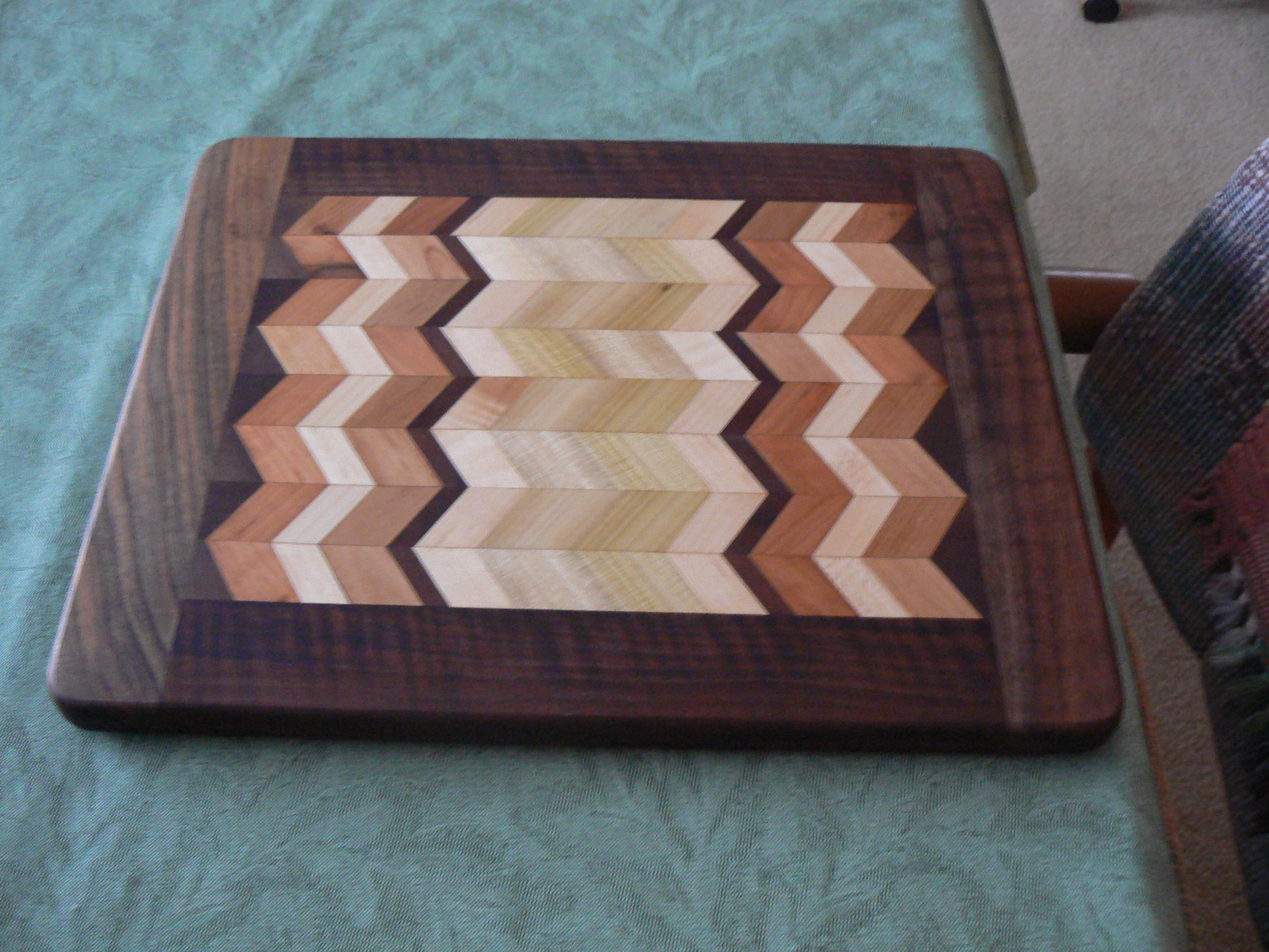gloved_hand: (46, 118, 1139, 780)
